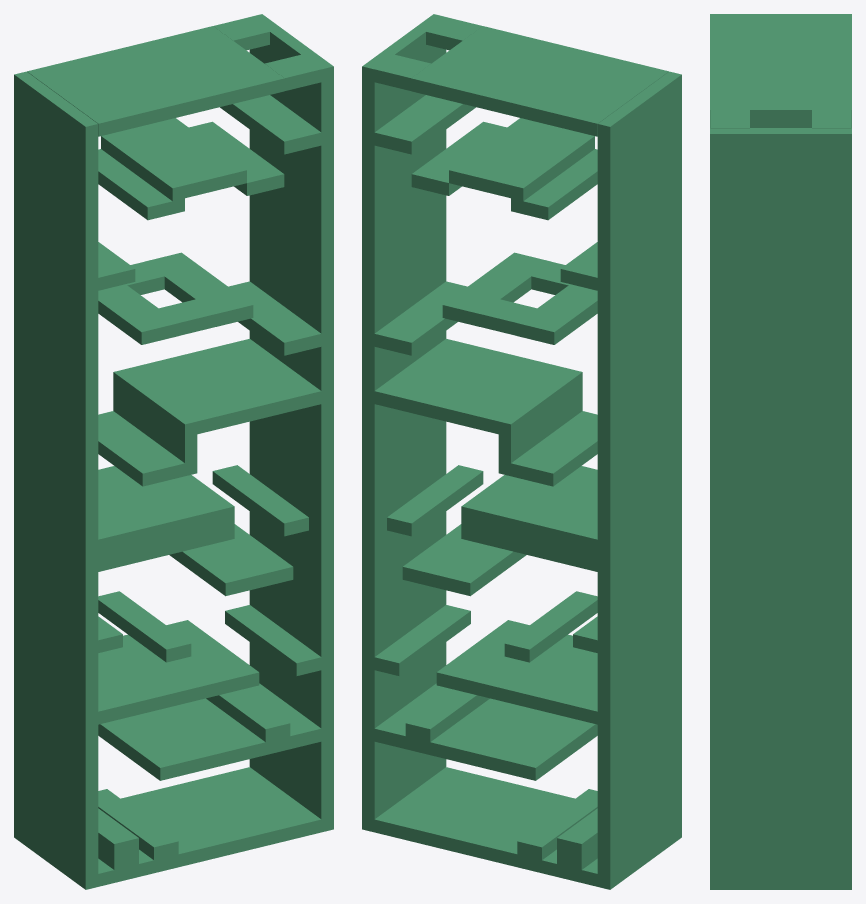
The model's file is stage_3.obj.
The picture shows the model from 3 angles, left to right: view 1: azimuth 30°, elevation 25°; view 2: azimuth 150°, elevation 25°; view 3: azimuth 270°, elevation 25°; orthographic projection.
Parts seen in each view (by area): view 1: 立方体.035; view 2: 立方体.035; view 3: 立方体.035.
Part boxes in pixels (box(x1,y1,x2,y2)): 立方体.035: box(14, 14, 333, 889); 立方体.035: box(362, 14, 681, 889); 立方体.035: box(710, 14, 851, 889).
Bounding box in the file's own units: 40 × 118 × 20.
